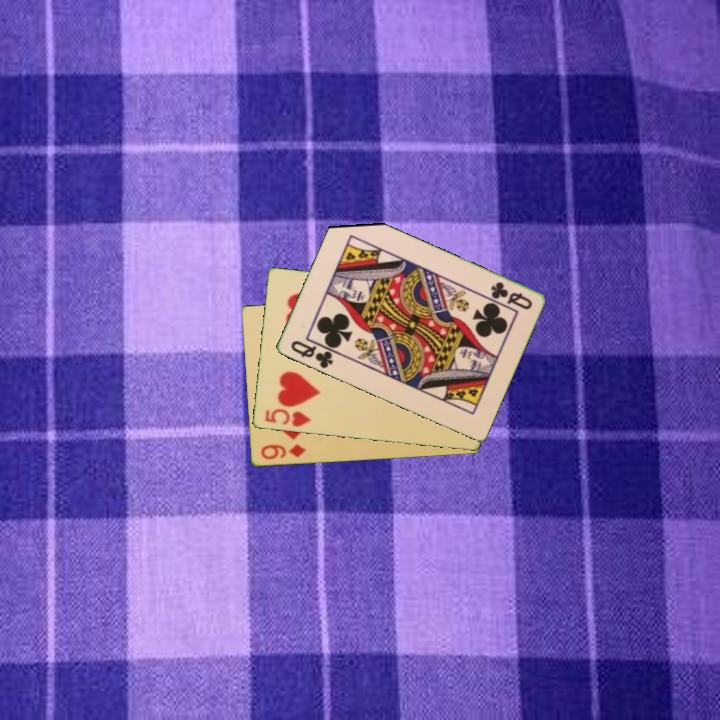5h: (261, 405, 313, 430)
9d: (257, 441, 309, 462)
Qc: (487, 278, 535, 313), (287, 337, 336, 371)
